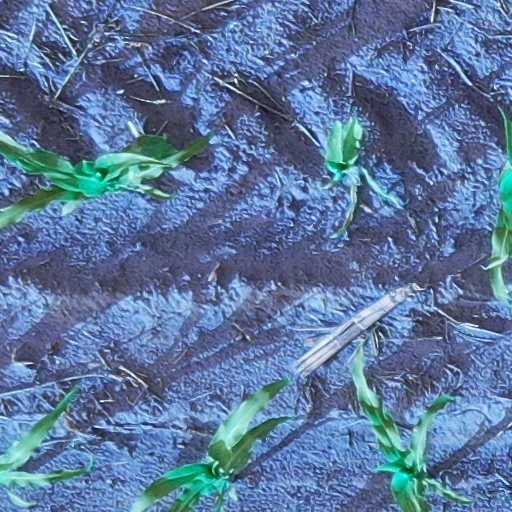planta: (318, 111, 402, 243)
